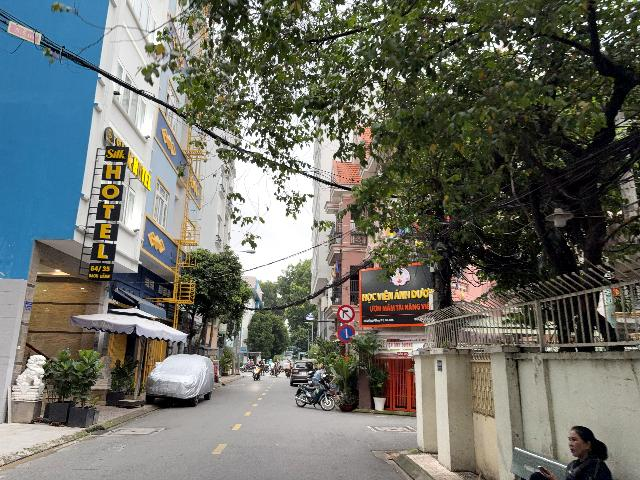cam-do-xe-ngay-le: (337, 324, 356, 344)
cam-re-phai: (337, 304, 355, 323)
